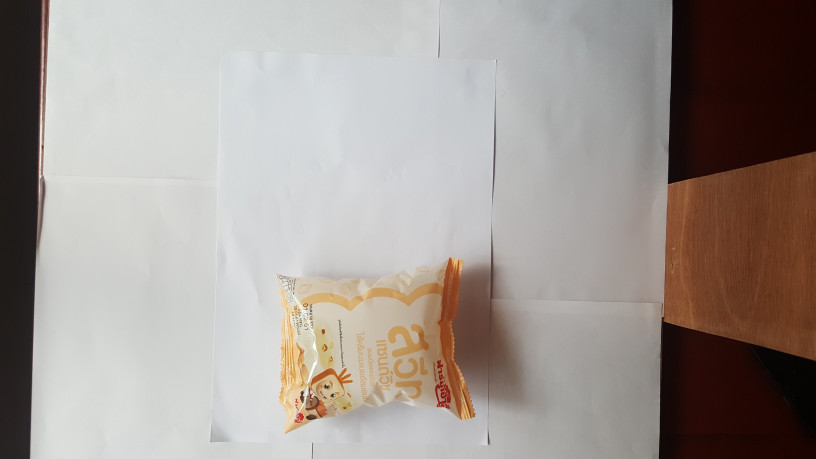farmhouse-sweetsandwich-almond: (270, 257, 485, 437)
